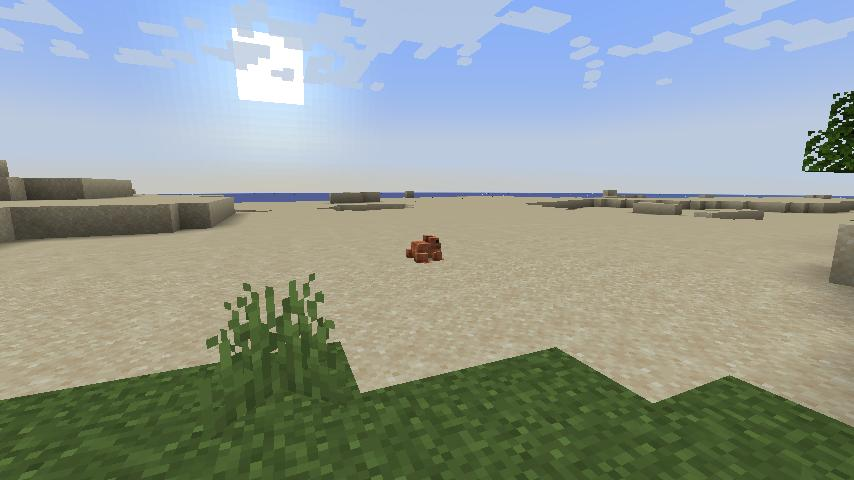frog: (404, 231, 448, 266)
